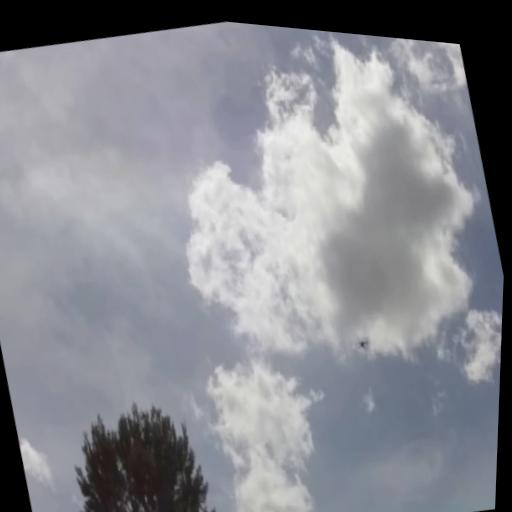drones: (352, 333, 374, 359)
